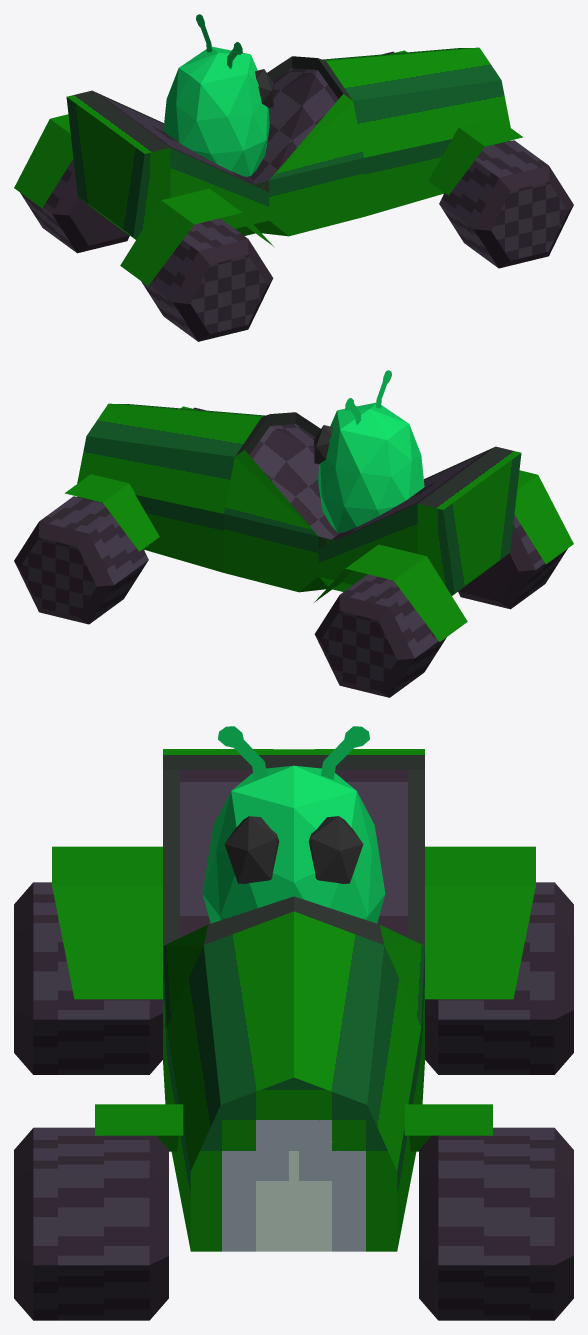
The model's file is proto_kart3.gltf.
The picture shows the model from 3 angles, top to bottom: view 1: azimuth 30°, elevation 25°; view 2: azimuth 150°, elevation 25°; view 3: azimuth 270°, elevation 25°; orthographic projection. The views are drawn at different scales.
Visible parts, largest first — view 1: Chasis, Tires, Alien; view 2: Chasis, Tires, Alien; view 3: Chasis, Tires, Alien.
Boxes of the visible parts, x1,y1,x2,y2 form: Chasis: (14, 47, 522, 285); Tires: (20, 51, 573, 341); Alien: (163, 14, 273, 176); Chasis: (65, 403, 573, 641); Tires: (14, 407, 567, 697); Alien: (314, 370, 424, 532); Chasis: (52, 749, 535, 1251); Tires: (14, 882, 573, 1320); Alien: (202, 726, 385, 923).
Bounding box in the file's own units: 1.72 × 0.9175 × 1.2.
Materials: 3 (3 with a texture image).
